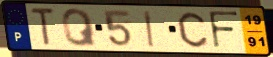5: (102, 9, 135, 48)
C: (176, 11, 210, 49)
F: (206, 10, 241, 51)
I: (142, 9, 156, 49)
Q: (60, 8, 99, 48)
T: (29, 6, 57, 47)
